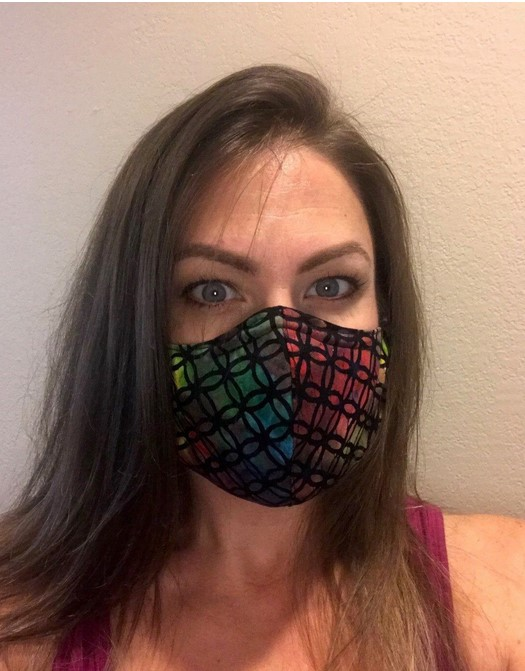face_with_mask: (139, 104, 393, 506)
